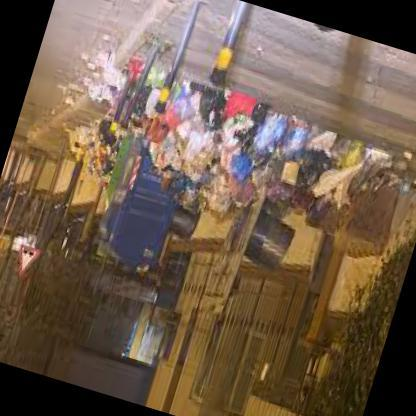Garbage: (141, 70, 407, 244), (61, 35, 132, 121), (58, 119, 117, 167), (196, 80, 240, 136), (253, 104, 291, 162), (216, 87, 256, 136), (200, 186, 240, 228), (280, 115, 312, 166), (148, 128, 181, 176), (165, 84, 200, 129), (219, 116, 256, 157), (92, 47, 128, 88), (224, 141, 256, 183), (140, 110, 172, 152), (336, 142, 371, 180), (225, 174, 258, 208), (230, 121, 262, 156), (180, 176, 208, 212), (164, 169, 191, 205), (178, 132, 208, 164), (52, 75, 82, 107), (146, 58, 176, 90), (80, 80, 112, 107), (288, 185, 316, 213), (142, 88, 164, 120), (397, 172, 415, 209), (315, 122, 337, 148), (154, 165, 172, 192)
